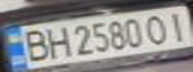0: (121, 16, 148, 48)
2: (69, 21, 93, 56)
5: (90, 19, 112, 54)
8: (106, 17, 130, 51)
B: (18, 27, 54, 63)
H: (42, 25, 72, 60)
I: (160, 8, 193, 42)
O: (142, 11, 175, 45)
